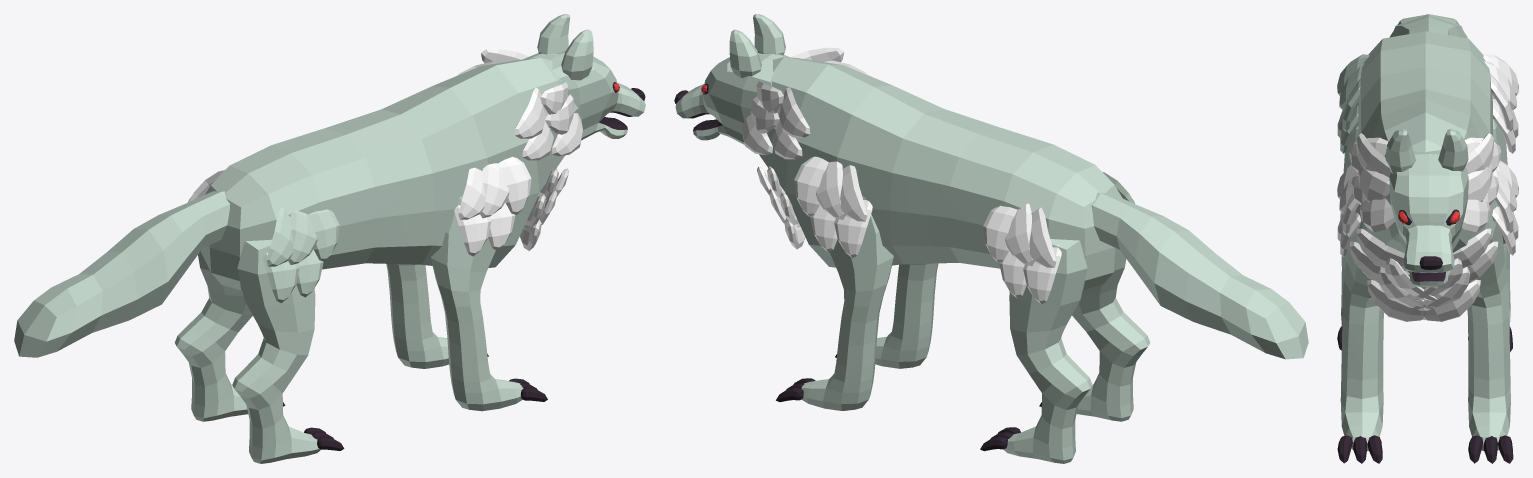
The model's file is wolf.fbx.
The picture shows the model from 3 angles, left to right: view 1: azimuth 30°, elevation 25°; view 2: azimuth 150°, elevation 25°; view 3: azimuth 270°, elevation 25°; orthographic projection. The views are drawn at different scales.
Visible parts, largest first — view 1: Cube.015; view 2: Cube.015; view 3: Cube.015.
Part boxes in pixels (x1,y1,x2,y2): Cube.015: [14, 14, 645, 463]; Cube.015: [674, 14, 1308, 463]; Cube.015: [1337, 14, 1518, 463].
Bounding box in the file's own units: 552 × 284 × 126.
